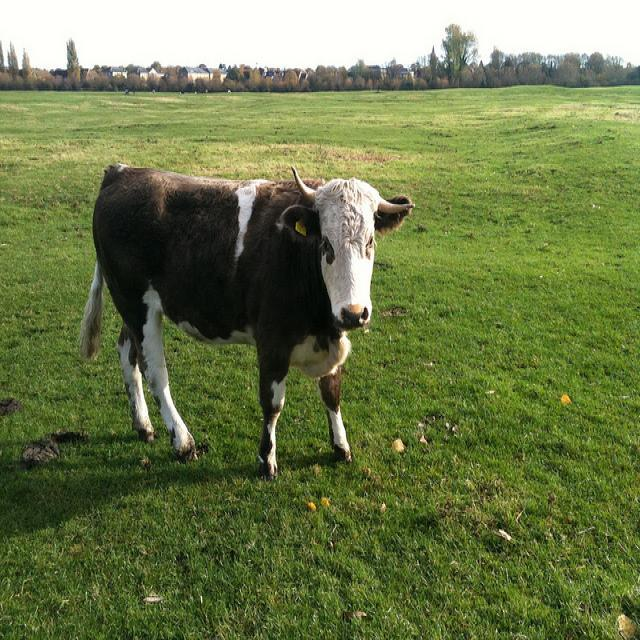cow: (74, 161, 412, 476)
